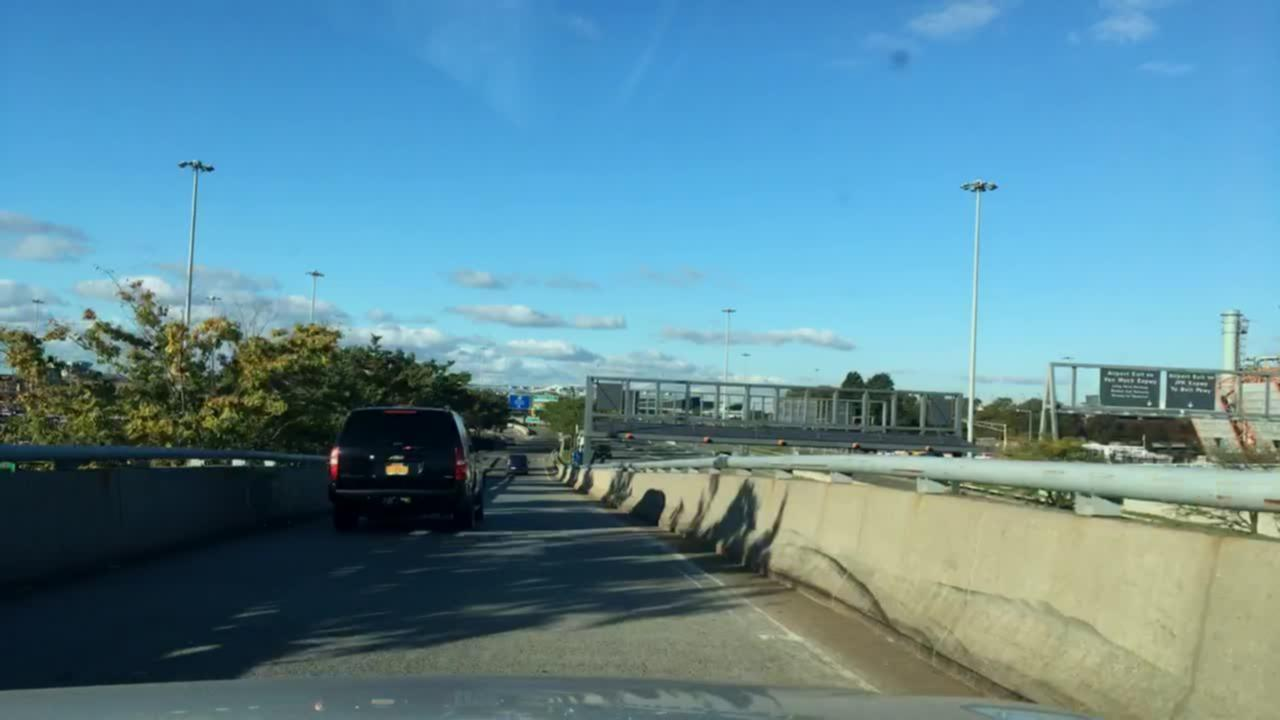chevrolet: (386, 451, 407, 464)
